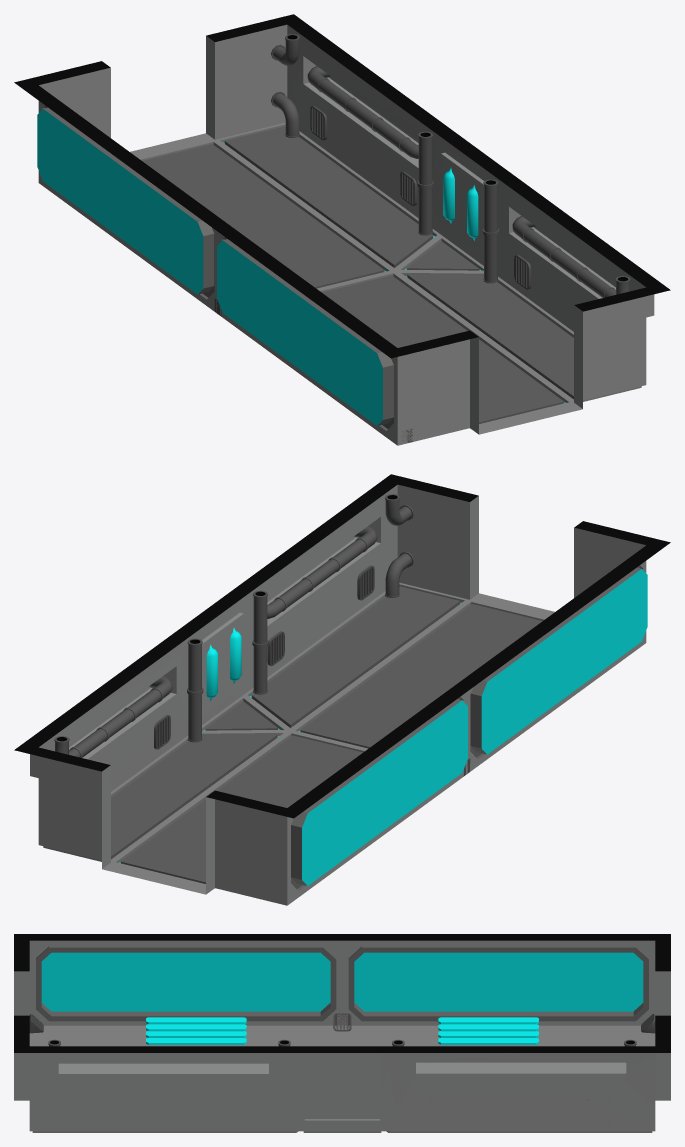
Rendered from HallwayStraight.fbx.
3 views of the same model, one above another, from view 1: azimuth 30°, elevation 25°; view 2: azimuth 150°, elevation 25°; view 3: azimuth 270°, elevation 25° (orthographic). The views are drawn at different scales.
Parts seen in each view (by area): view 1: HallwayStraight, HallwayStraightGlass; view 2: HallwayStraight, HallwayStraightGlass; view 3: HallwayStraight, HallwayStraightGlass, HallwayStraightStairs.
Part boxes in pixels (x1,y1,x2,y2): HallwayStraight: [14, 14, 670, 445]; HallwayStraightGlass: [37, 109, 478, 425]; HallwayStraight: [14, 474, 670, 905]; HallwayStraightGlass: [206, 569, 647, 885]; HallwayStraight: [14, 934, 670, 1132]; HallwayStraightGlass: [41, 952, 643, 1011]; HallwayStraightStairs: [146, 1017, 538, 1044].
Bounding box in the file's own units: 931 × 310 × 2100.
